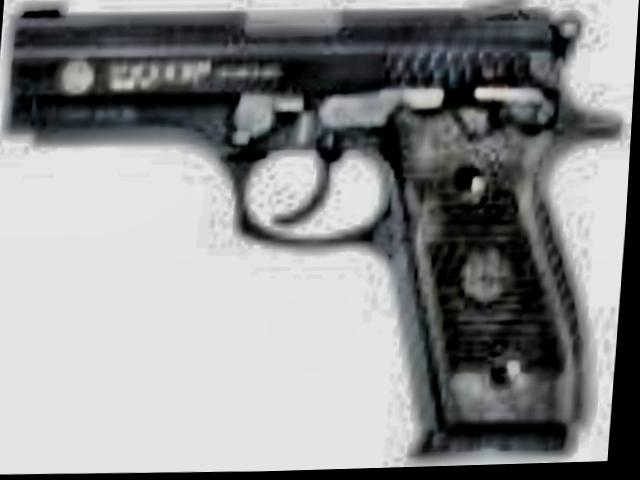pistol: (0, 0, 628, 477)
